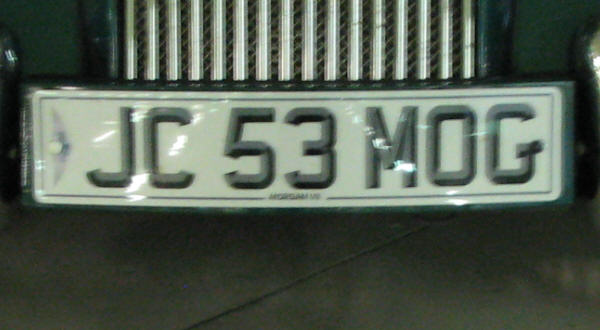license_plate: (31, 85, 562, 208)
